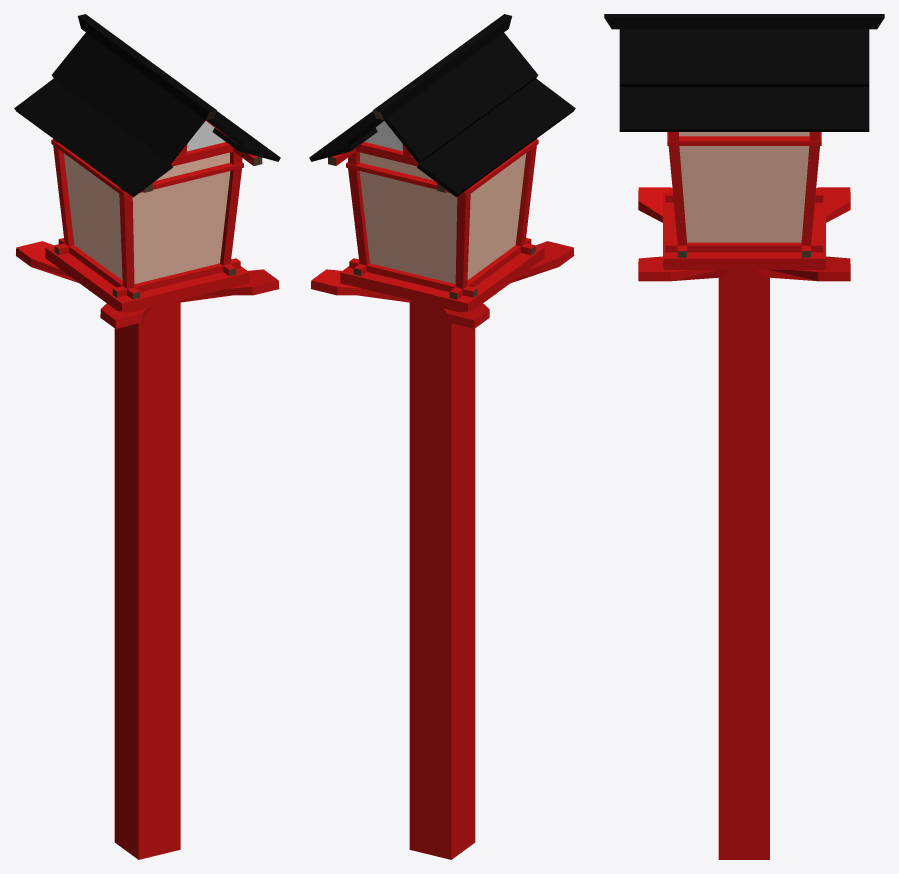
Rendered from Light_02.FBX.
3 renders of one model, left to right at view 1: azimuth 30°, elevation 25°; view 2: azimuth 150°, elevation 25°; view 3: azimuth 270°, elevation 25°, orthographic. The views are drawn at different scales.
Parts seen in each view (by area): view 1: Куб; view 2: Куб; view 3: Куб.
Boxes of the visible parts, bbox=[...] form: Куб: bbox=[14, 14, 280, 859]; Куб: bbox=[309, 14, 575, 859]; Куб: bbox=[604, 14, 884, 859].
Bounding box in the file's own units: 329 × 1503 × 458.
